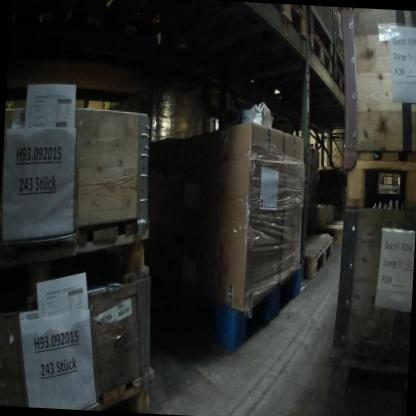pallet: (0, 198, 153, 324), (159, 254, 308, 364), (339, 151, 416, 214), (96, 352, 157, 410), (288, 232, 336, 286), (247, 3, 309, 44), (311, 209, 349, 253), (303, 31, 335, 80), (333, 65, 352, 101), (374, 169, 401, 190), (317, 130, 349, 142), (303, 139, 319, 151)
stillage: (304, 7, 339, 49), (329, 9, 352, 71)
